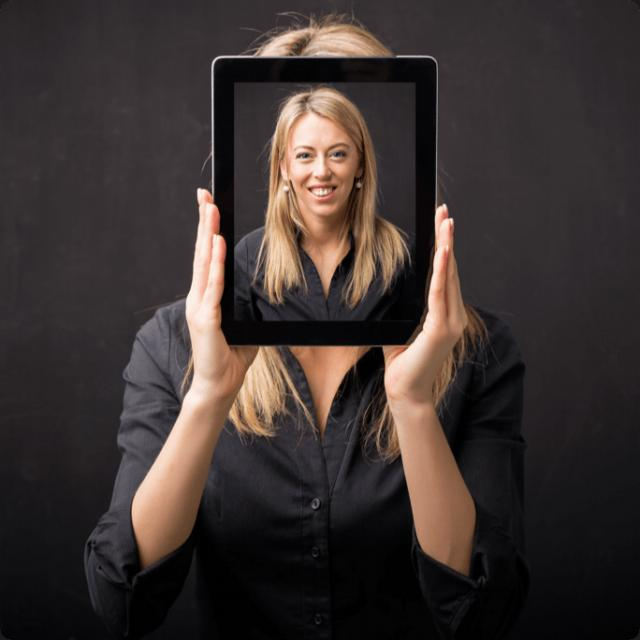device: (208, 52, 442, 349)
